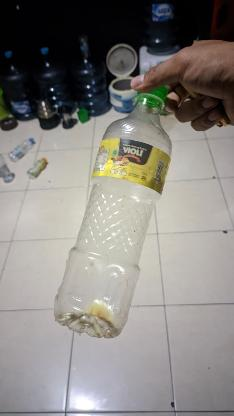Plastic Bottle: (70, 57, 174, 341)
